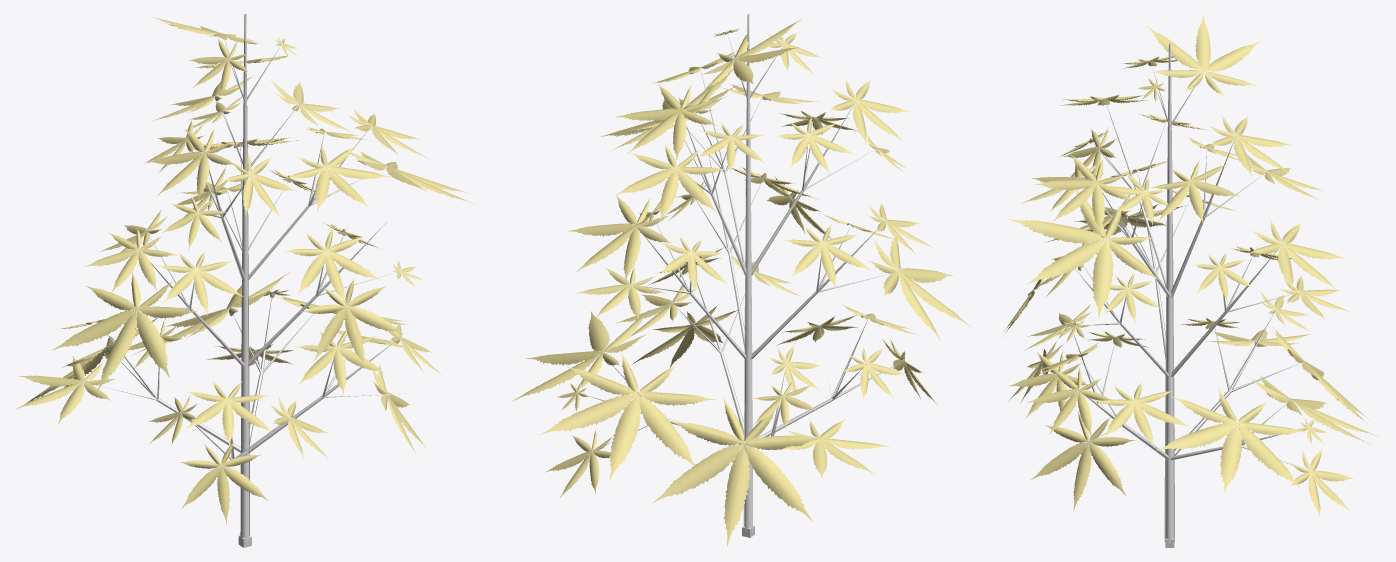
3 views of the same model, side by side, from view 1: azimuth 30°, elevation 25°; view 2: azimuth 150°, elevation 25°; view 3: azimuth 270°, elevation 25° (orthographic). The views are drawn at different scales.
Visible parts, largest first — view 1: marijuanna; view 2: marijuanna; view 3: marijuanna.
Boxes of the visible parts, bbox=[...] form: marijuanna: bbox=[16, 14, 473, 542]; marijuanna: bbox=[512, 14, 971, 546]; marijuanna: bbox=[1005, 15, 1377, 543].
Bounding box in the file's own units: 94.28 × 121 × 83.09.
